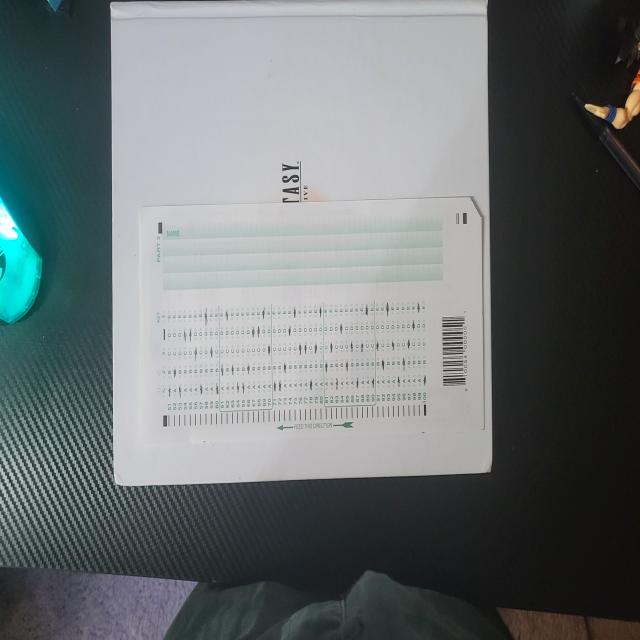scantron_back: (140, 197, 483, 441)
